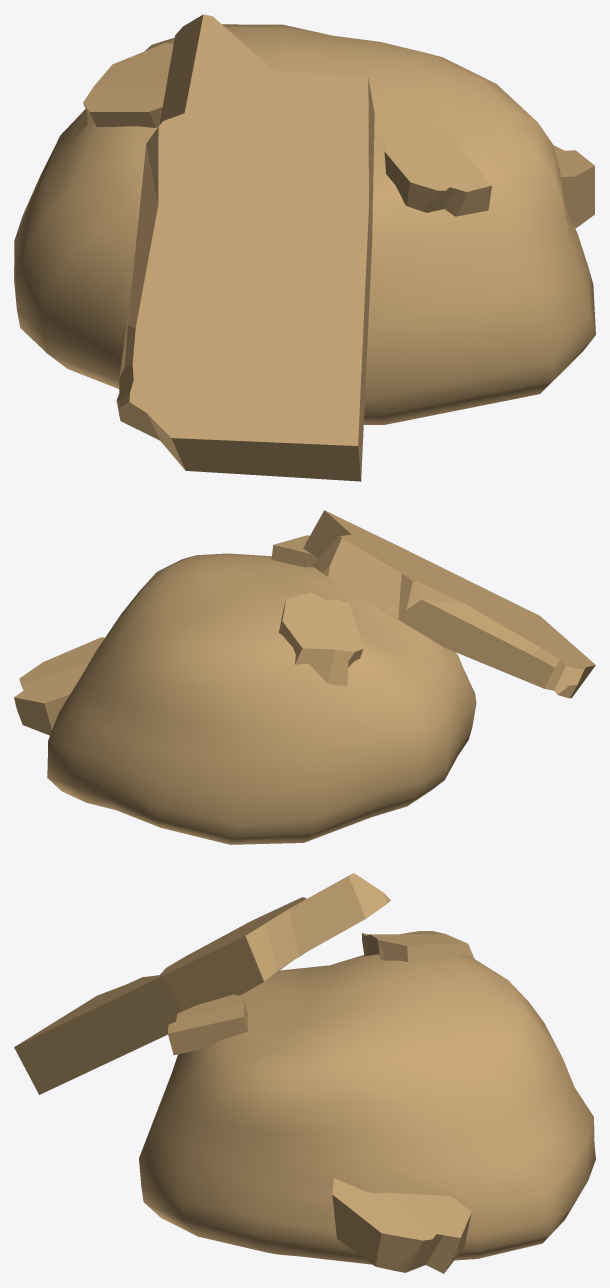
The model's file is Ruins_Rubble_Small.fbx.
The picture shows the model from 3 angles, top to bottom: view 1: azimuth 30°, elevation 25°; view 2: azimuth 150°, elevation 25°; view 3: azimuth 270°, elevation 25°; orthographic projection. The views are drawn at different scales.
Visible parts, largest first — view 1: RubbleWallSeg, Rubble_Big, RubbleBrick_01, RubbleBrick_01.003, RubbleBrick_01.001; view 2: Rubble_Big, RubbleWallSeg, RubbleBrick_01.003, RubbleBrick_01.001, RubbleBrick_01; view 3: Rubble_Big, RubbleWallSeg, RubbleBrick_01.001, RubbleBrick_01, RubbleBrick_01.003.
Part boxes in pixels (x1=…): RubbleWallSeg: x1=116, y1=14, x2=374, y2=481; Rubble_Big: x1=14, y1=24, x2=595, y2=424; RubbleBrick_01: x1=384, y1=128, x2=491, y2=216; RubbleBrick_01.003: x1=73, y1=43, x2=173, y2=136; RubbleBrick_01.001: x1=553, y1=145, x2=594, y2=227; Rubble_Big: x1=47, y1=553, x2=476, y2=844; RubbleWallSeg: x1=303, y1=510, x2=595, y2=698; RubbleBrick_01.003: x1=279, y1=592, x2=363, y2=686; RubbleBrick_01.001: x1=14, y1=637, x2=104, y2=735; RubbleBrick_01: x1=271, y1=535, x2=317, y2=567; Rubble_Big: x1=139, y1=954, x2=595, y2=1264; RubbleWallSeg: x1=14, y1=873, x2=390, y2=1094; RubbleBrick_01.001: x1=332, y1=1178, x2=471, y2=1273; RubbleBrick_01: x1=168, y1=994, x2=247, y2=1055; RubbleBrick_01.003: x1=361, y1=931, x2=474, y2=961.
Size of the model in its own units: 245 by 134 by 253.
